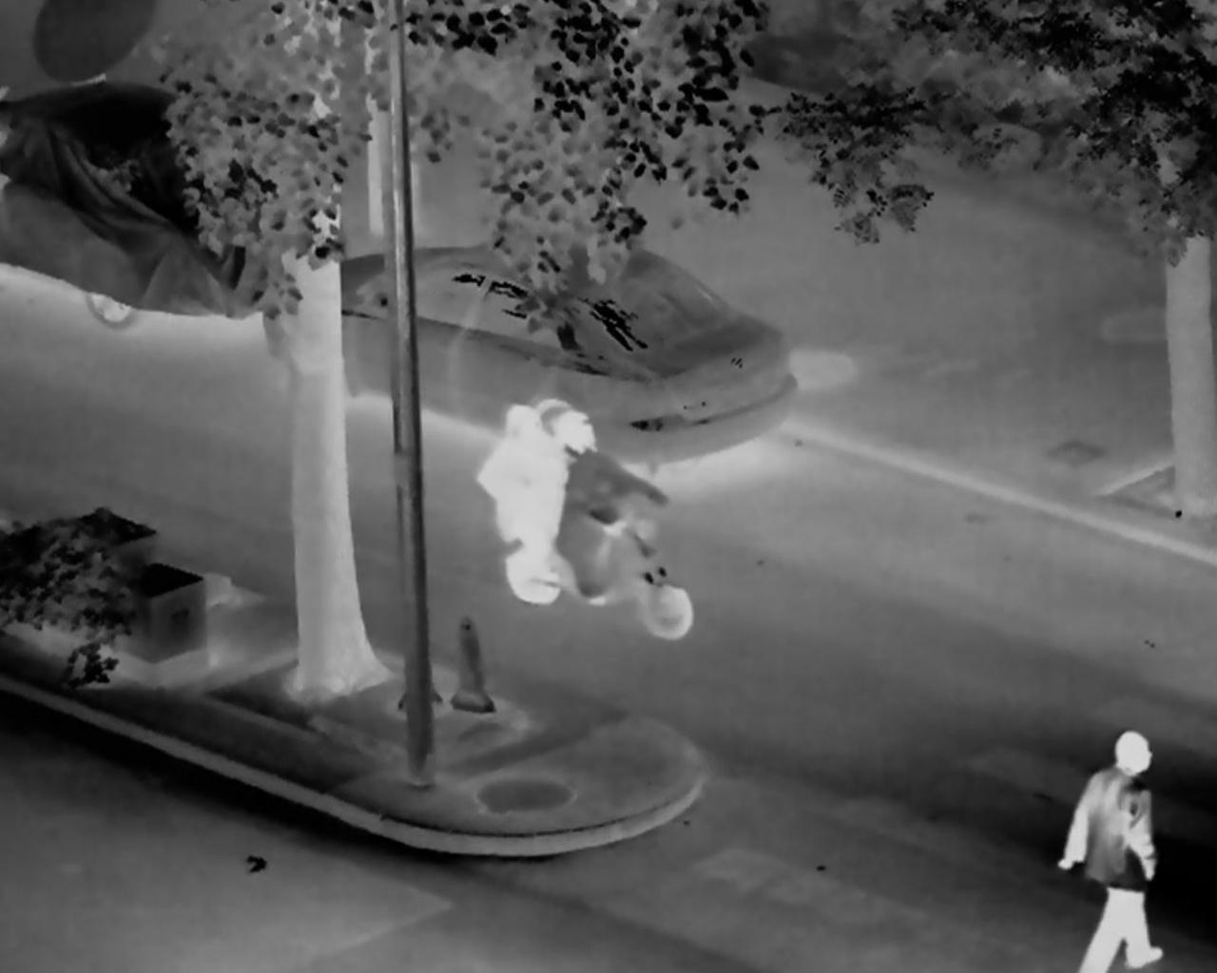person: (1052, 728, 1168, 973), (536, 410, 632, 574), (480, 402, 558, 559)
